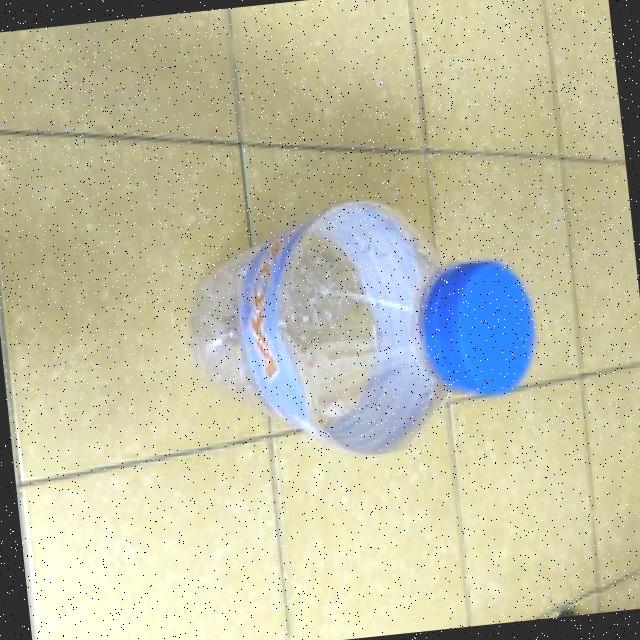bottle: (160, 166, 567, 464)
cap: (418, 252, 539, 408)
label: (230, 190, 430, 460)
